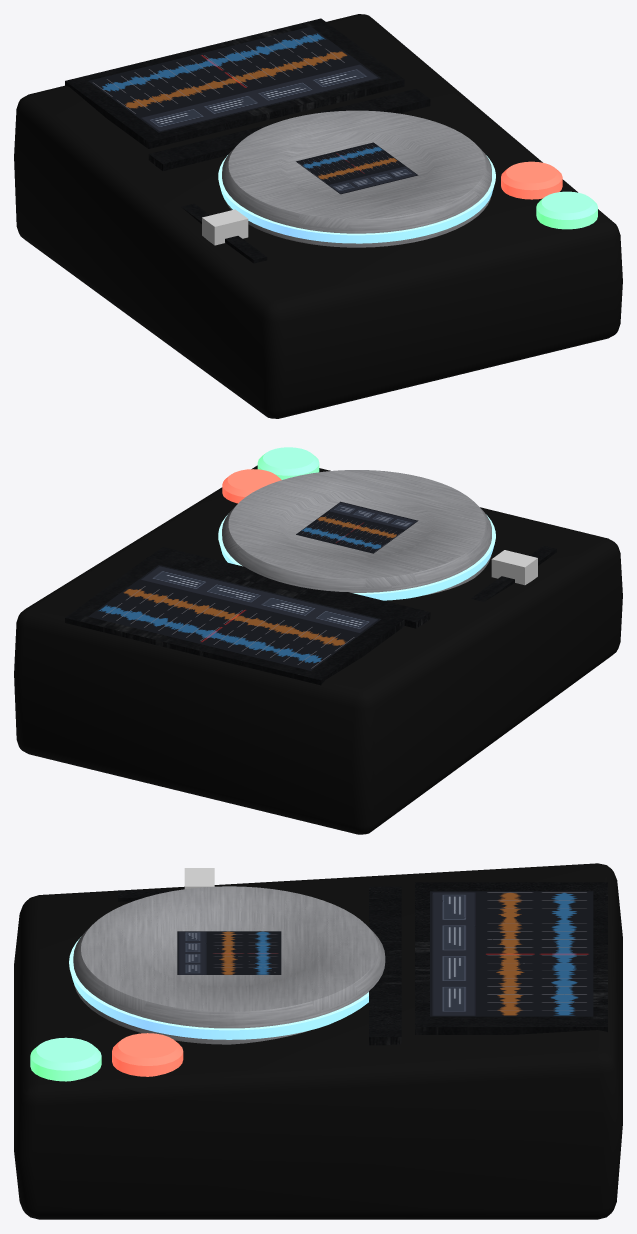
Rendered from dj_player_cdj.gltf.
3 views of the same model, one above another, from view 1: azimuth 30°, elevation 25°; view 2: azimuth 150°, elevation 25°; view 3: azimuth 270°, elevation 25° (orthographic). The views are drawn at different scales.
Parts seen in each view (by area): view 1: dj_player_cdj; view 2: dj_player_cdj; view 3: dj_player_cdj.
Boxes of the visible parts, x1,y1,x2,y2 form: dj_player_cdj: (14, 14, 622, 418); dj_player_cdj: (14, 447, 622, 834); dj_player_cdj: (14, 863, 622, 1219).
Bounding box in the file's own units: 0.32 × 0.1308 × 0.41.
8 materials, 4 textured.
